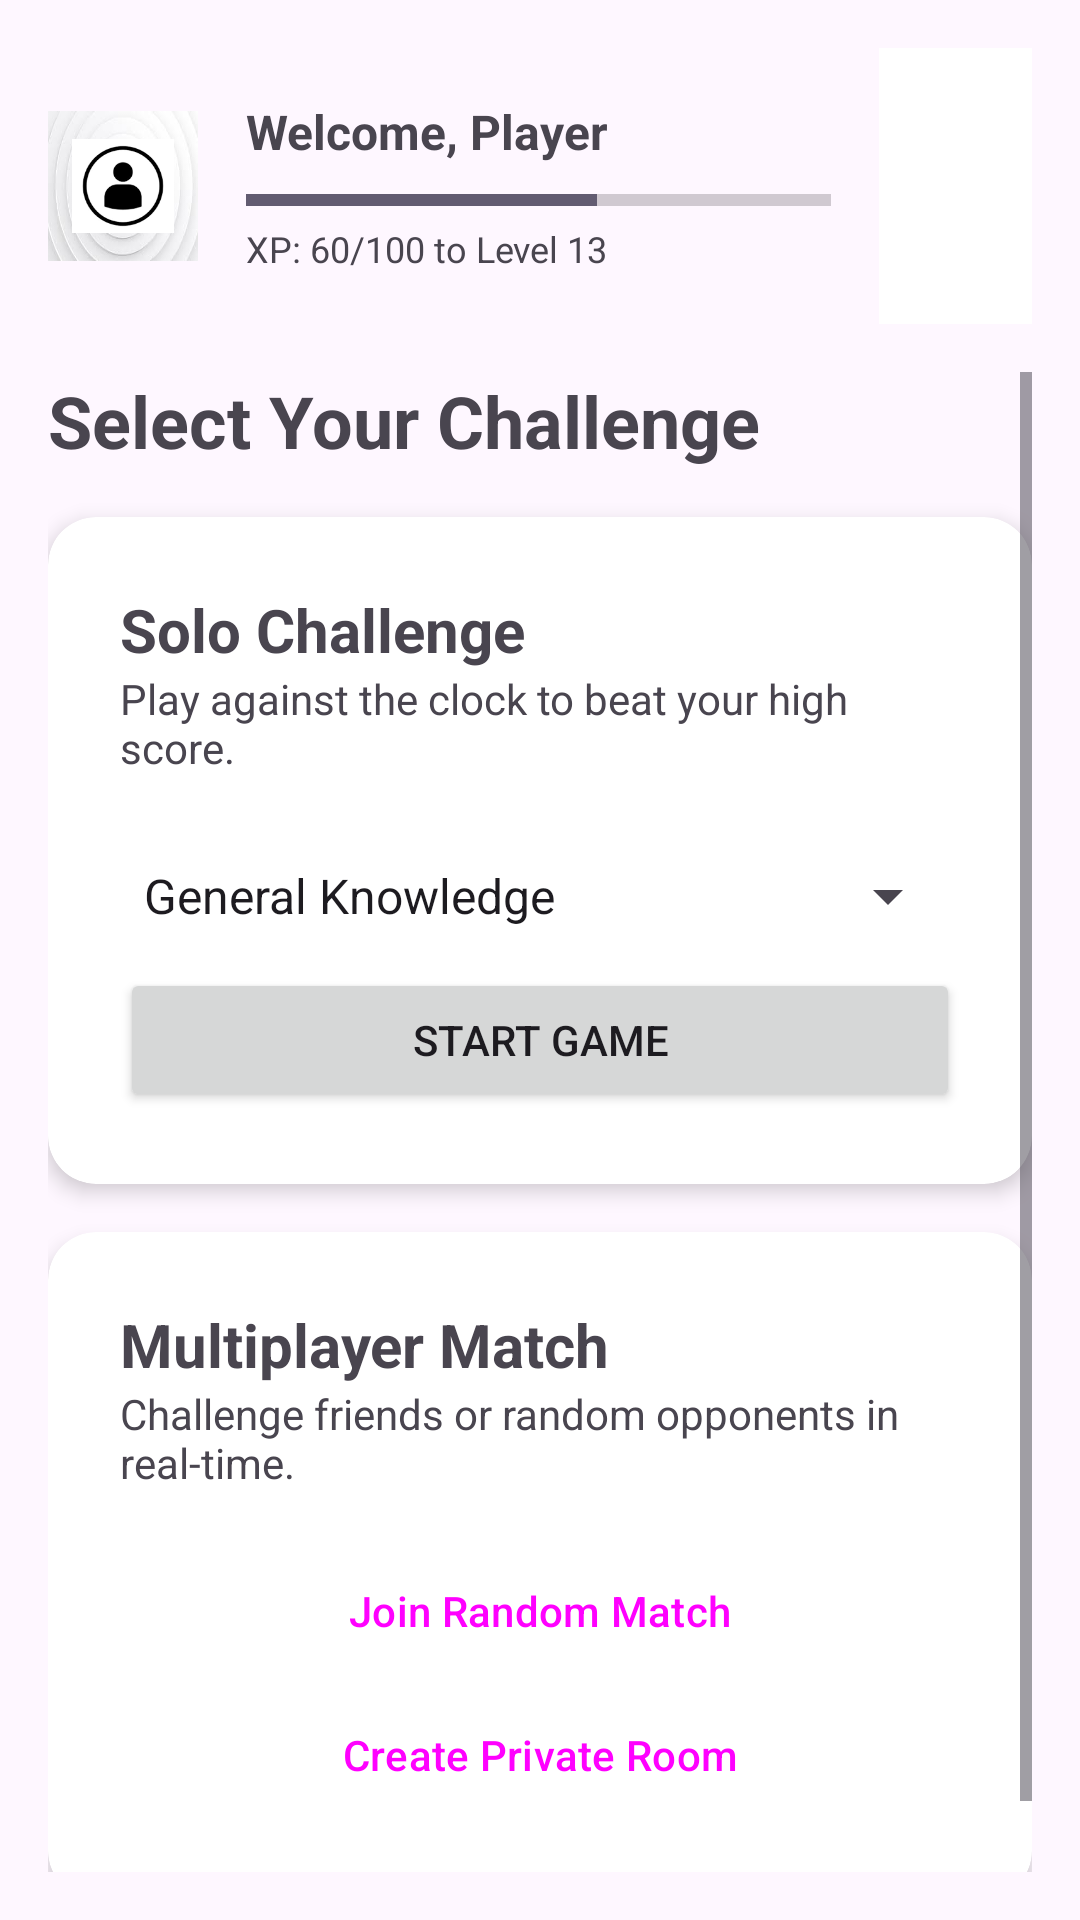

Named icons in this screenshot (1080px×1920px) and their bounding boxes, [x1=x1, y1=y1, x2=x2, y2=y2]:
User Avatar: [x1=48, y1=118, x2=198, y2=261]
